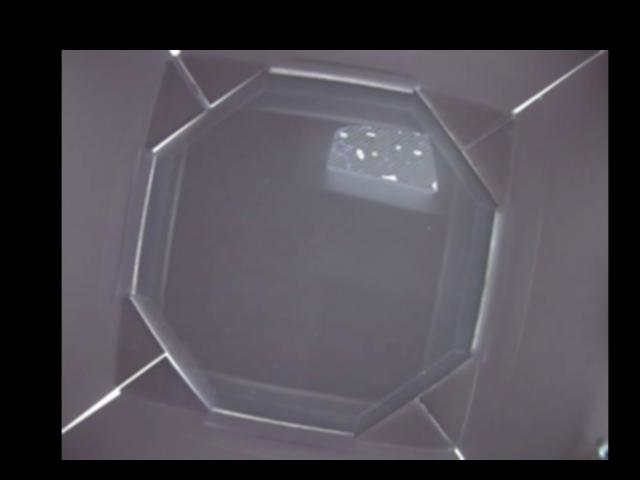China: (329, 124, 438, 194)
